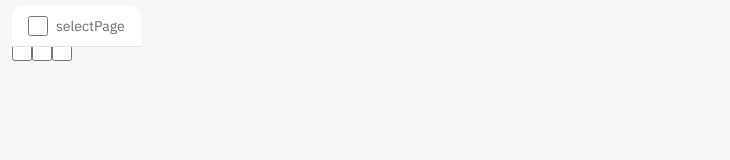
Test: selection › shows the toolbar only once something is selected
This screenshot has width=730, height=160.
Expected: the button "apply" is not shown
Click the checkbox named "selectRow:{\"label\":\"row t2\"}": (42, 51) [32,41,52,61]
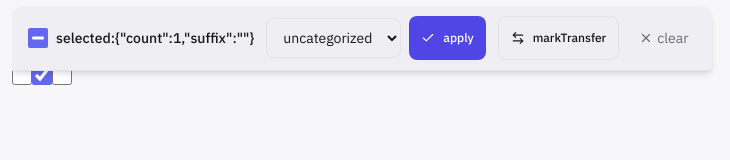
Expected: the text "selected:{\"count\":1,\"suffix\":\"\"}" shows "\"count\":1", [56,29,254,47]
Expected: the button "apply" is shown, [409,16,486,60]
